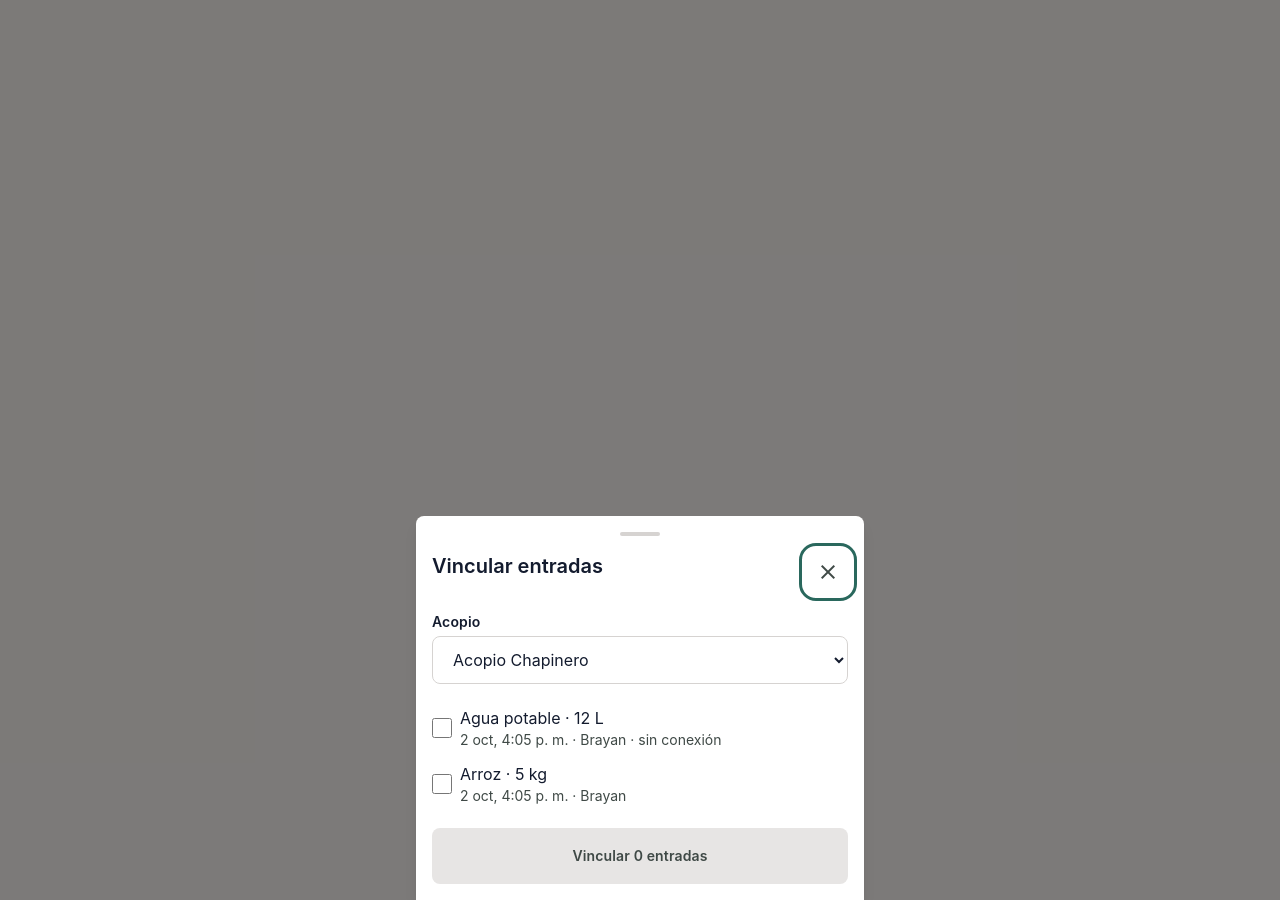
el Auditor elige entre sus acopios; otro acopio avisa que el folio pasa a él
Select "Acopio Kennedy" in the dropdown labelled "Acopio": (640, 660) 432,636 -> 848,684
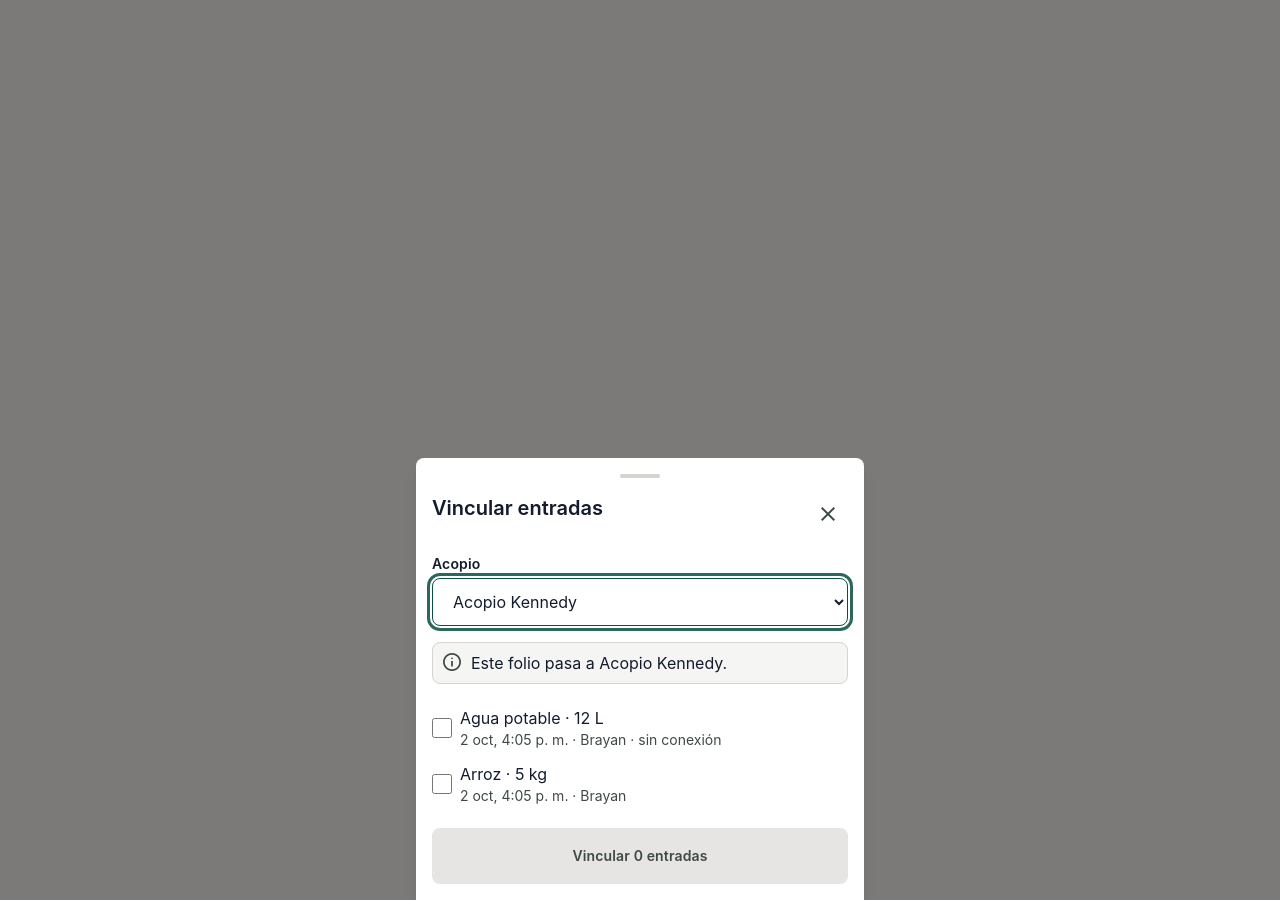
Check: the text "Este folio pasa a Acopio Kennedy." is shown, box 432,642 -> 848,684
